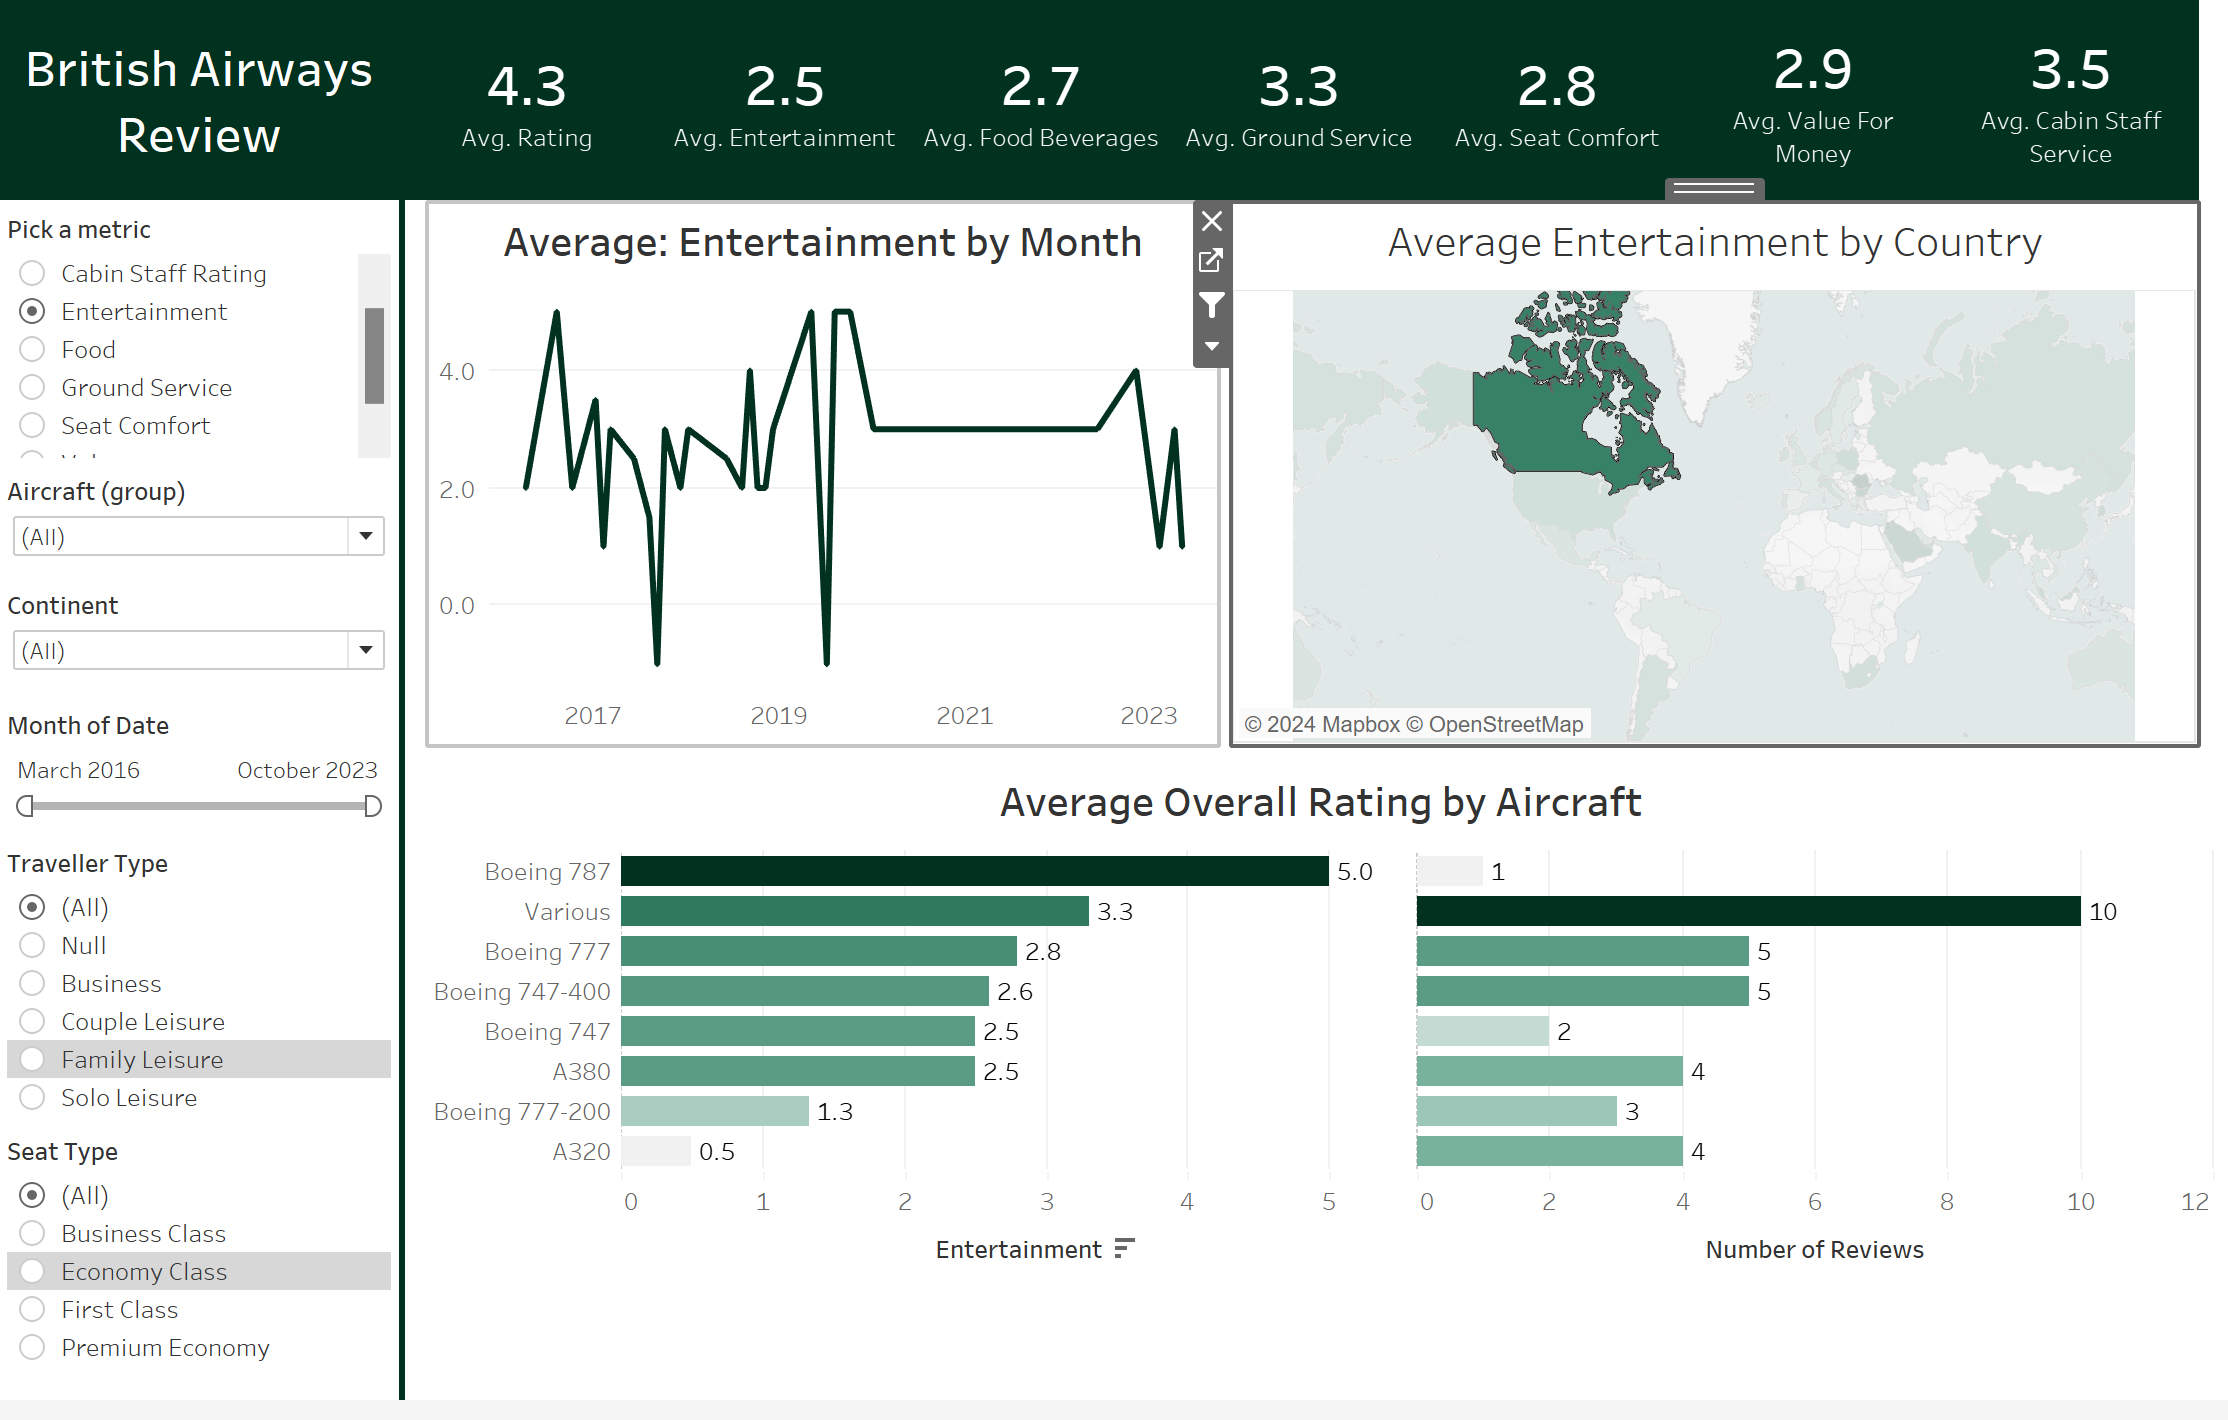

The dashboard page shown, as its layout file describes it:
{"tool":"tableau","page":{"name":"Dashboard 1","canvas":[1200,700],"ordinal":0},"visuals":[{"type":"text","box":[0,0,200,100]},{"type":"worksheet","title":"Summary","mark":"Automatic","box":[200,0,900,100]},{"type":"blank","box":[200,100,3,600]},{"type":"parameter","param":"[Parameters].[Parameter 1]","box":[0,102,200,131]},{"type":"worksheet","title":"Month","mark":"Automatic","rows":["Calculation_763360141670346752"],"cols":["date"],"box":[215,102,394,270]},{"type":"worksheet","title":"Map","mark":"Automatic","box":[617,102,482,270]},{"type":"filter","title":"Map","param":"[federated.0xfbc1f0z088te0zwv5681m0mz08].[Aircraft (group)]","box":[0,233,200,57]},{"type":"filter","title":"Map","param":"[federated.0xfbc1f0z088te0zwv5681m0mz08].[none:Continent:nk]","box":[0,290,200,60]},{"type":"filter","title":"Map","param":"[federated.0xfbc1f0z088te0zwv5681m0mz08].[tmn:date:qk]","box":[0,350,200,69]},{"type":"worksheet","title":"Sheet 4","mark":"Automatic","cols":["Calculation_763360141670346752","ba_reviews.csv_592189566FAB4ACF8BD99D5A52790DC3"],"box":[215,382,893,308]},{"type":"filter","title":"Map","param":"[federated.0xfbc1f0z088te0zwv5681m0mz08].[none:traveller_type:nk]","box":[0,419,200,144]},{"type":"filter","title":"Map","param":"[federated.0xfbc1f0z088te0zwv5681m0mz08].[none:seat_type:nk]","box":[0,563,200,127]}]}

Visuals, with their boxes on the page's 1200x700 design canvas (x1, y1, x2, y2). These are canvas units, not pixel positions in the 2228x1420 screenshot, which may show the page scaled, cropped or inside an application window:
text: 0, 0, 200, 100
"Summary" worksheet: 200, 0, 1100, 100
blank: 200, 100, 203, 700
parameter: 0, 102, 200, 233
"Month" worksheet: 215, 102, 609, 372
"Map" worksheet: 617, 102, 1099, 372
"Map" filter: 0, 233, 200, 290
"Map" filter: 0, 290, 200, 350
"Map" filter: 0, 350, 200, 419
"Sheet 4" worksheet: 215, 382, 1108, 690
"Map" filter: 0, 419, 200, 563
"Map" filter: 0, 563, 200, 690
